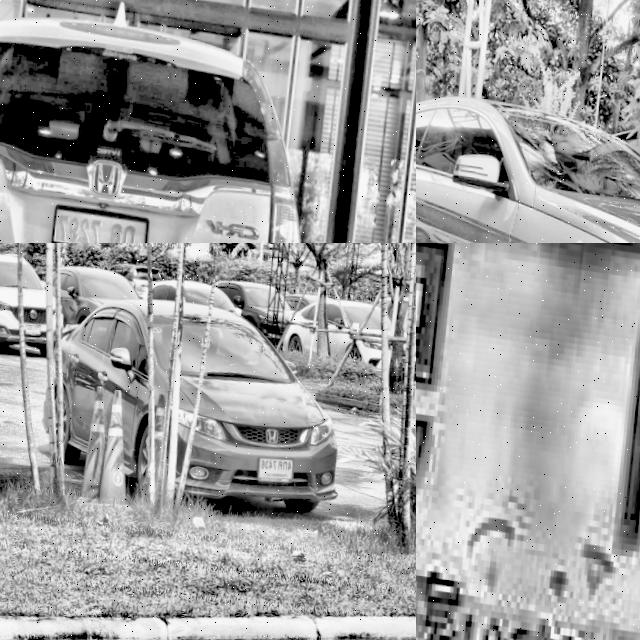license-plate: (416, 243, 640, 640), (49, 191, 154, 243), (262, 439, 300, 475), (28, 318, 43, 331)
